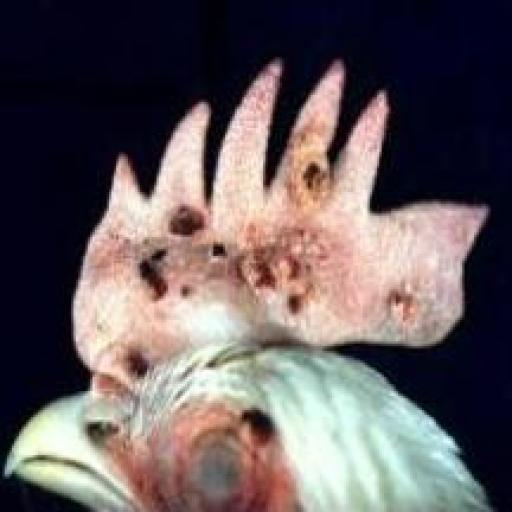disease: (172, 383, 296, 512), (238, 209, 339, 318), (118, 234, 200, 318), (160, 182, 228, 278), (375, 269, 425, 324), (295, 145, 344, 200)
